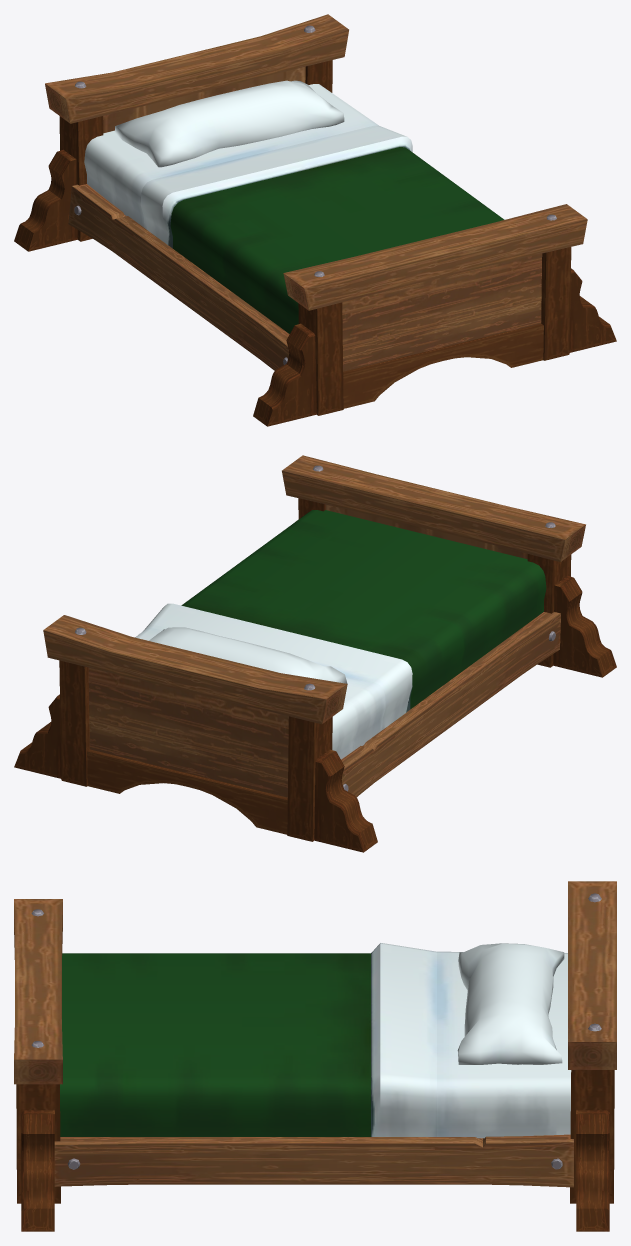
The model's file is Bed_Twin2.glb.
3 views of the same model, one above another, from view 1: azimuth 30°, elevation 25°; view 2: azimuth 150°, elevation 25°; view 3: azimuth 270°, elevation 25° (orthographic). The views are drawn at different scales.
Parts seen in each view (by area): view 1: Bed_Twin2; view 2: Bed_Twin2; view 3: Bed_Twin2.
Part boxes in pixels (x1,y1,x2,y2): Bed_Twin2: [14, 14, 616, 426]; Bed_Twin2: [14, 455, 616, 852]; Bed_Twin2: [14, 881, 616, 1231].
Bounding box in the file's own units: 1.88 × 0.7597 × 2.41.
Materials: 3 (3 with a texture image).
